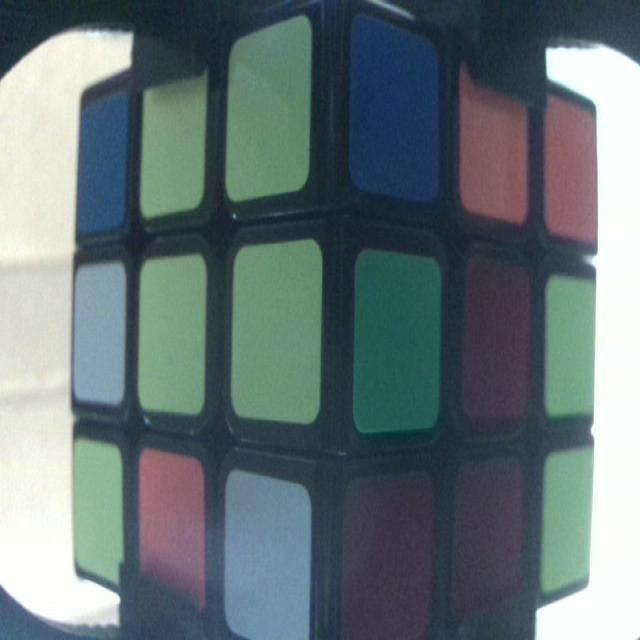b: (352, 24, 441, 203), (79, 101, 126, 227)
g: (358, 253, 436, 431)
o: (139, 452, 204, 604), (465, 74, 527, 218), (548, 102, 595, 230)
r: (348, 485, 428, 640), (455, 475, 525, 621), (466, 265, 529, 419)
w: (226, 473, 310, 640), (77, 269, 122, 402)
y: (235, 255, 316, 417), (229, 40, 309, 195), (141, 266, 204, 414), (141, 77, 206, 208), (72, 448, 122, 572), (546, 283, 591, 420), (545, 457, 589, 591)
